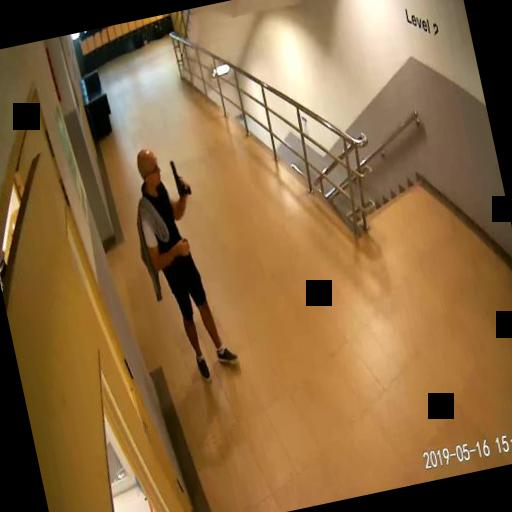Handgun: (167, 156, 190, 198)
